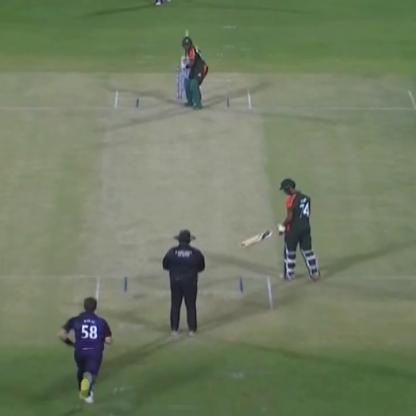bat: (236, 221, 283, 251), (176, 27, 194, 82)
pitch: (90, 73, 278, 327)
